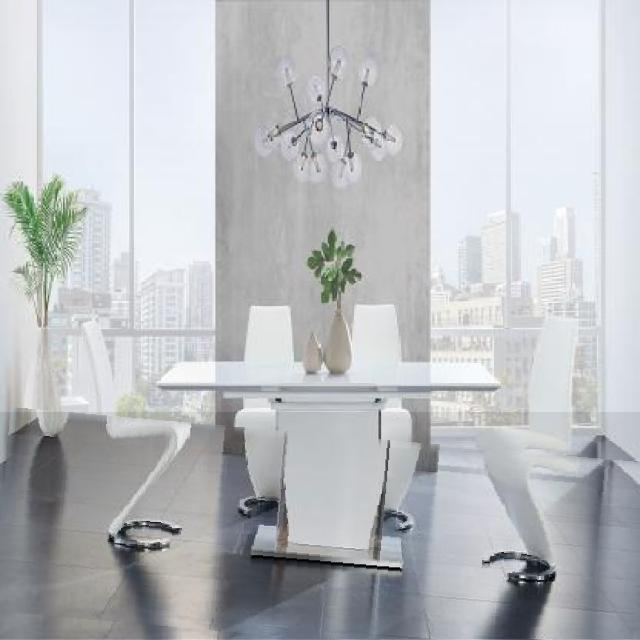floor: (0, 412, 640, 640)
